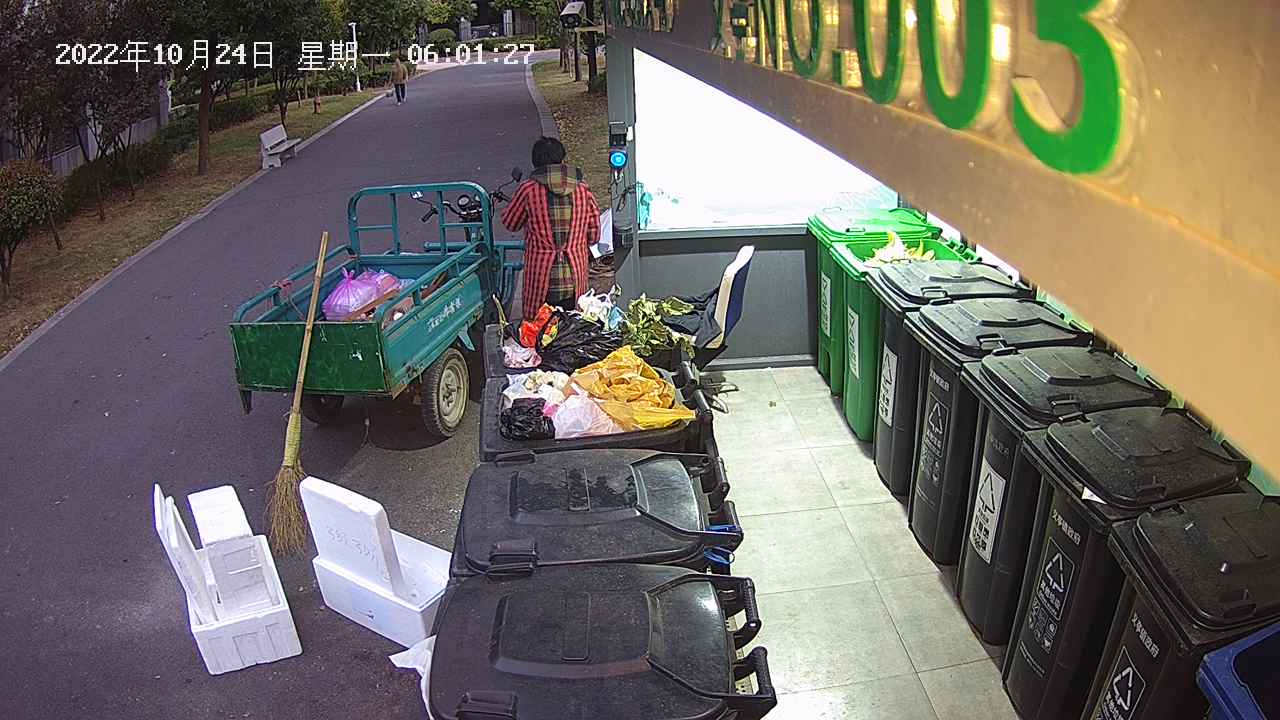paomozhipin: (148, 479, 303, 676), (298, 471, 455, 650)
worker: (497, 135, 603, 321)
